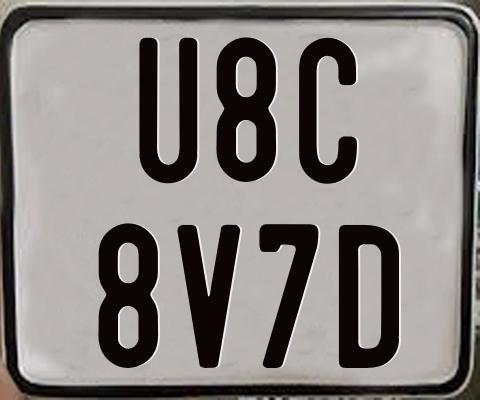7: (257, 222, 318, 370)
8: (215, 34, 280, 182), (95, 223, 156, 374)
C: (298, 35, 357, 181)
D: (338, 223, 399, 367)
U: (139, 38, 200, 189)
V: (177, 225, 243, 374)
